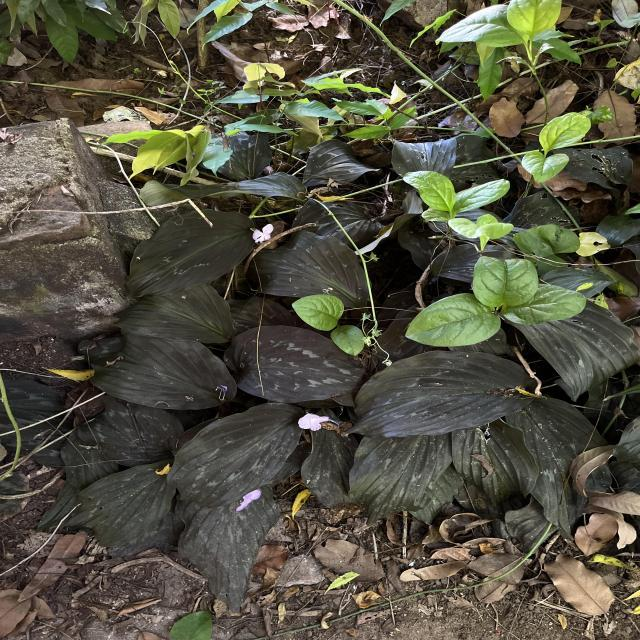Kaempferia galanga linn: (344, 349, 542, 439), (164, 400, 305, 510), (122, 207, 258, 300), (89, 328, 238, 411), (222, 323, 370, 404)
